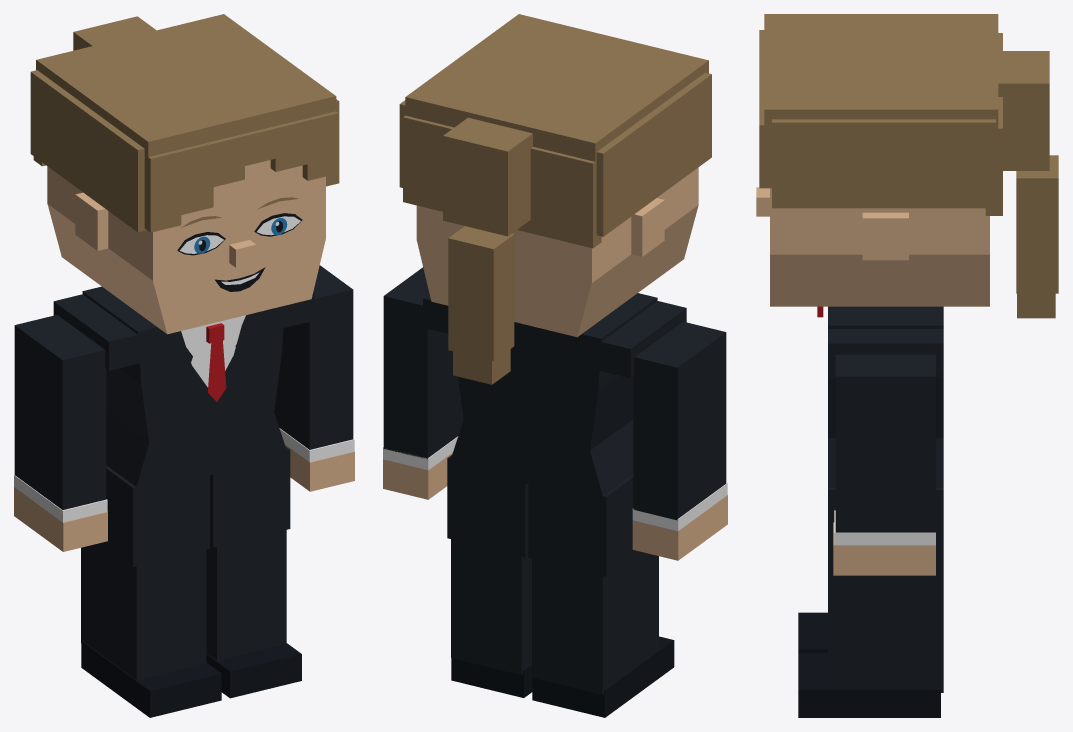
Rendered from female_ponytail.glb.
The picture shows the model from 3 angles, left to right: view 1: azimuth 30°, elevation 25°; view 2: azimuth 150°, elevation 25°; view 3: azimuth 270°, elevation 25°; orthographic projection. The views are drawn at different scales.
Visible parts, largest first — view 1: char_hair_visual, char_torso_visual, char_head_visual, char_leg_negx_visual, char_arm_negx_visual, char_leg_posx_visual, char_arm_posx_visual, char_hand_negx_visual, char_hand_posx_visual, char_eye_negx_visual, char_eye_posx_visual; view 2: char_hair_visual, char_torso_visual, char_leg_negx_visual, char_head_visual, char_arm_negx_visual, char_arm_posx_visual, char_leg_posx_visual, char_hand_negx_visual, char_hand_posx_visual; view 3: char_hair_visual, char_head_visual, char_arm_posx_visual, char_leg_posx_visual, char_torso_visual, char_hand_posx_visual, char_leg_negx_visual.
Part boxes in pixels (<box>): char_hair_visual: <box>30,14,339,232</box>; char_torso_visual: <box>53,286,314,567</box>; char_head_visual: <box>47,160,325,334</box>; char_leg_negx_visual: <box>81,543,221,717</box>; char_arm_negx_visual: <box>14,315,107,522</box>; char_leg_posx_visual: <box>206,524,301,698</box>; char_arm_posx_visual: <box>274,265,354,462</box>; char_hand_negx_visual: <box>14,487,107,551</box>; char_hand_posx_visual: <box>285,444,354,491</box>; char_eye_negx_visual: <box>177,232,225,255</box>; char_eye_posx_visual: <box>254,213,302,236</box>; char_hair_visual: <box>399,14,711,384</box>; char_torso_visual: <box>423,293,686,576</box>; char_leg_negx_visual: <box>532,552,674,717</box>; char_head_visual: <box>416,167,698,337</box>; char_arm_negx_visual: <box>632,321,727,531</box>; char_arm_posx_visual: <box>383,267,463,470</box>; char_leg_posx_visual: <box>451,533,532,697</box>; char_hand_negx_visual: <box>632,495,727,560</box>; char_hand_posx_visual: <box>383,452,452,499</box>; char_hair_visual: <box>759,14,1058,318</box>; char_head_visual: <box>756,187,989,306</box>; char_arm_posx_visual: <box>834,354,935,545</box>; char_leg_posx_visual: <box>798,572,943,717</box>; char_torso_visual: <box>817,306,943,572</box>; char_hand_posx_visual: <box>833,522,935,575</box>; char_leg_negx_visual: <box>798,612,827,653</box>.
Size of the model in its own units: 0.91 by 1.77 by 0.784.
